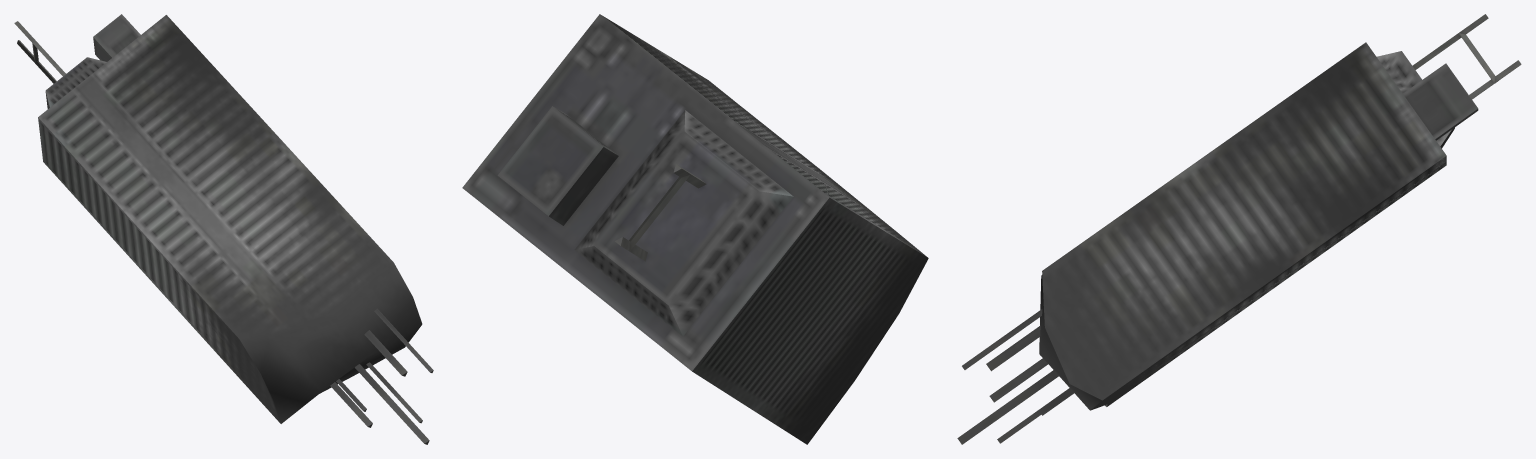
The model's file is skyBuildingAAC_pos_grp (20).fbx.
3 renders of one model, left to right at view 1: azimuth 30°, elevation 25°; view 2: azimuth 150°, elevation 25°; view 3: azimuth 270°, elevation 25°, orthographic. The views are drawn at different scales.
Visible parts, largest first — view 1: skyBuildingAAC_geo; view 2: skyBuildingAAC_geo; view 3: skyBuildingAAC_geo.
Part boxes in pixels (x1,y1,x2,y2): skyBuildingAAC_geo: [14, 14, 433, 444]; skyBuildingAAC_geo: [462, 14, 928, 444]; skyBuildingAAC_geo: [957, 14, 1521, 444].
Bounding box in the file's own units: 7.37 × 8.85 × 12.39.
Materials: 1 (1 with a texture image).
